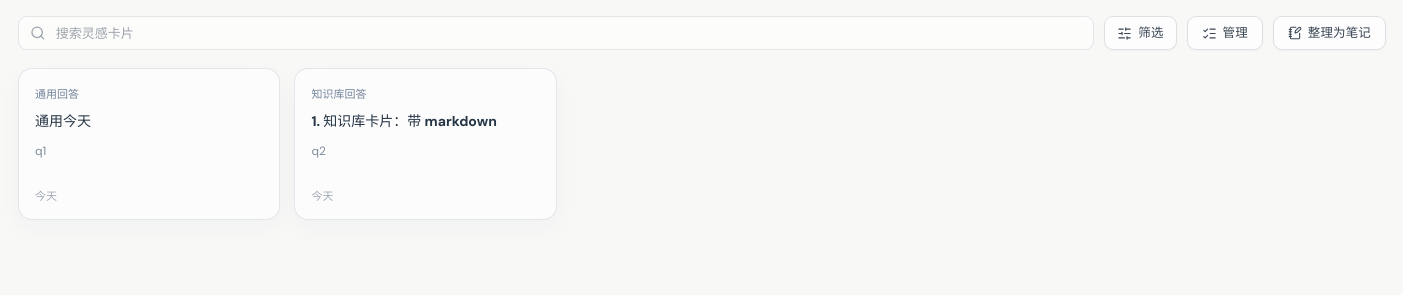
Test: InspirationCards manage mode › imports via 新建笔记 submenu and keeps organize available after cancel
Click the button "管理" at (1225, 33), box [1187,16,1263,50]
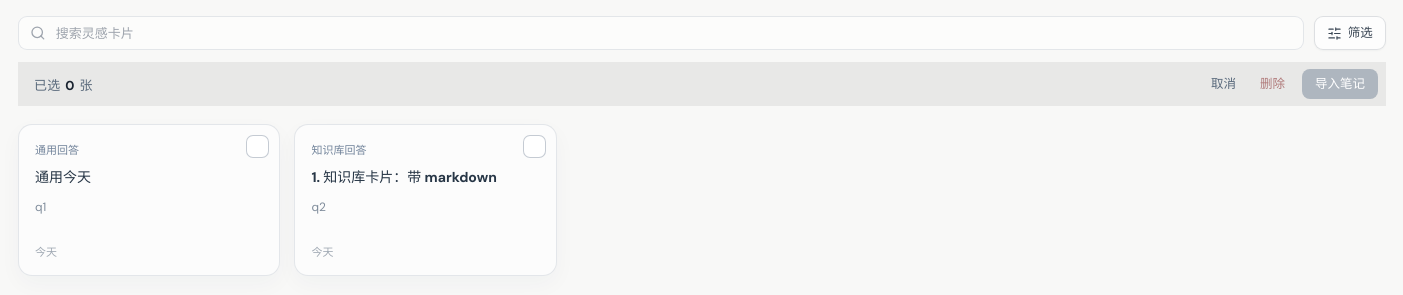
Click the button named "选择卡片：general-today" at (258, 146), box [246,135,269,158]
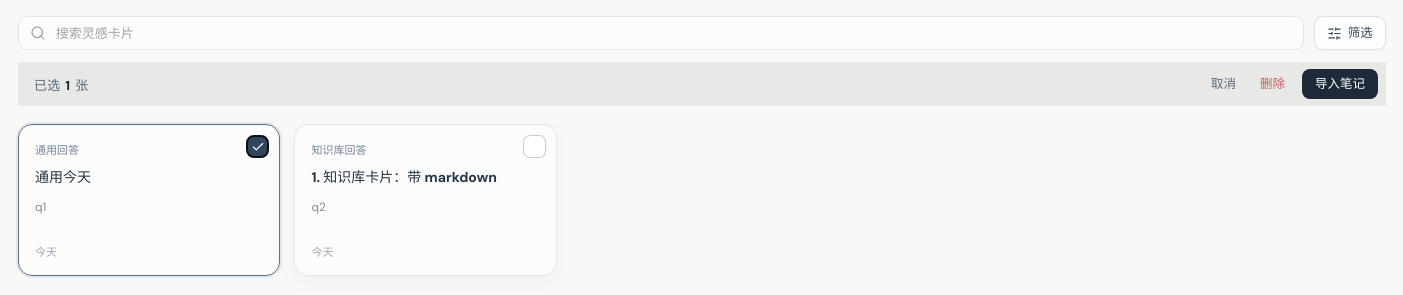
Click the button "导入笔记" at (1340, 84), box [1302,69,1378,99]
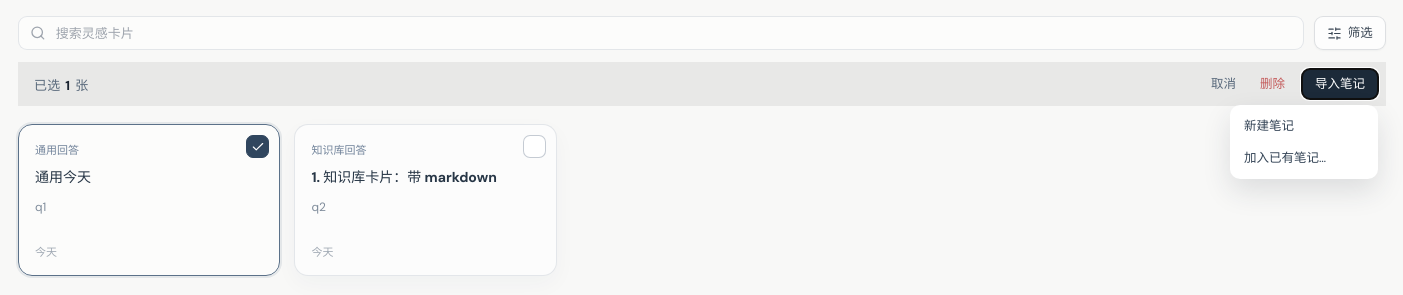
Click the menu item "新建笔记" at (1304, 126), box [1235,110,1373,142]
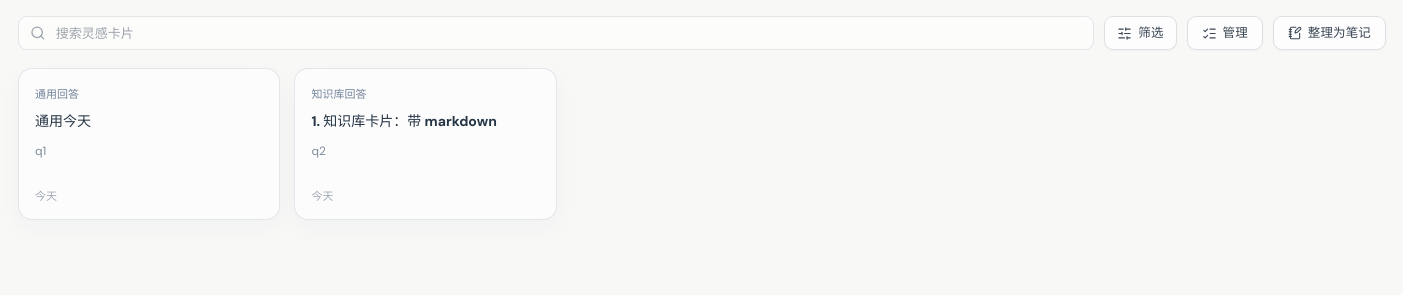
Now the button "整理为笔记" is shown, box [1273,16,1386,50]
